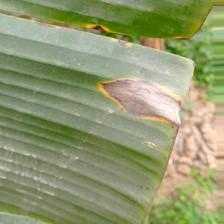cordana: (0, 0, 205, 224)
